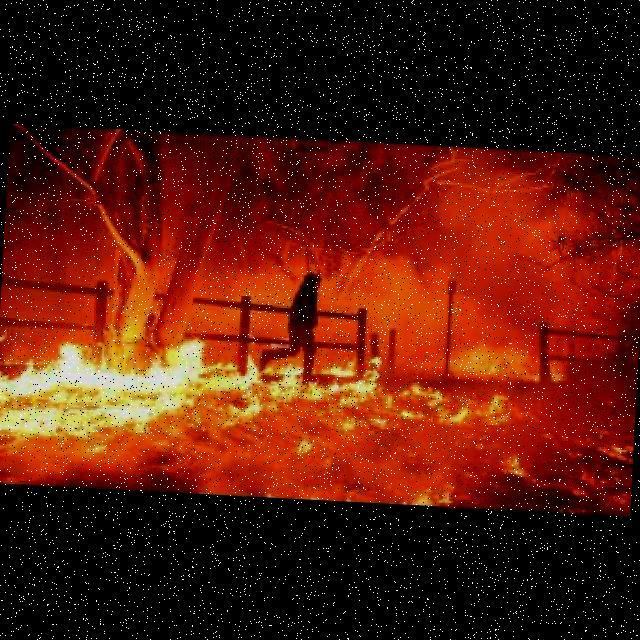Fire: (0, 331, 636, 514)
